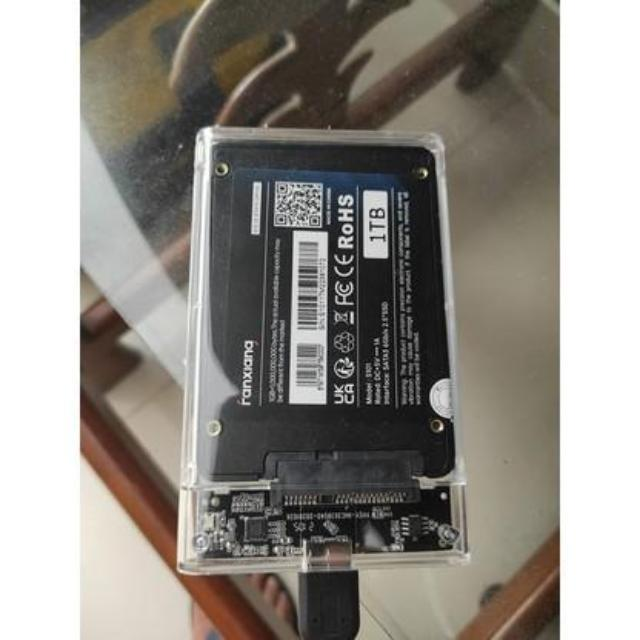DISK: (203, 142, 454, 490)
